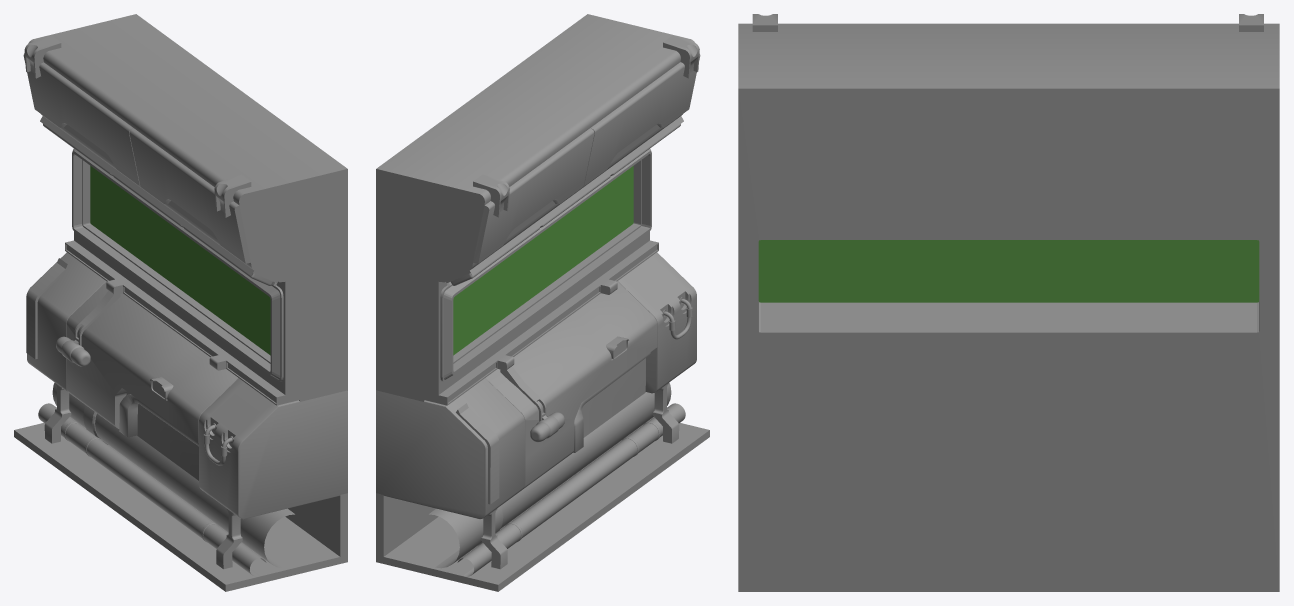
File: window_3.FBX
The picture shows the model from 3 angles, left to right: view 1: azimuth 30°, elevation 25°; view 2: azimuth 150°, elevation 25°; view 3: azimuth 270°, elevation 25°; orthographic projection. The views are drawn at different scales.
Parts seen in each view (by area): view 1: window_low; view 2: window_low; view 3: window_low.
Boxes of the visible parts, box(x1,y1,x2,y2) form: window_low: box(14, 14, 347, 591); window_low: box(376, 14, 709, 591); window_low: box(738, 14, 1279, 591).
Size of the model in its own units: 1.02 by 3.12 by 3.
